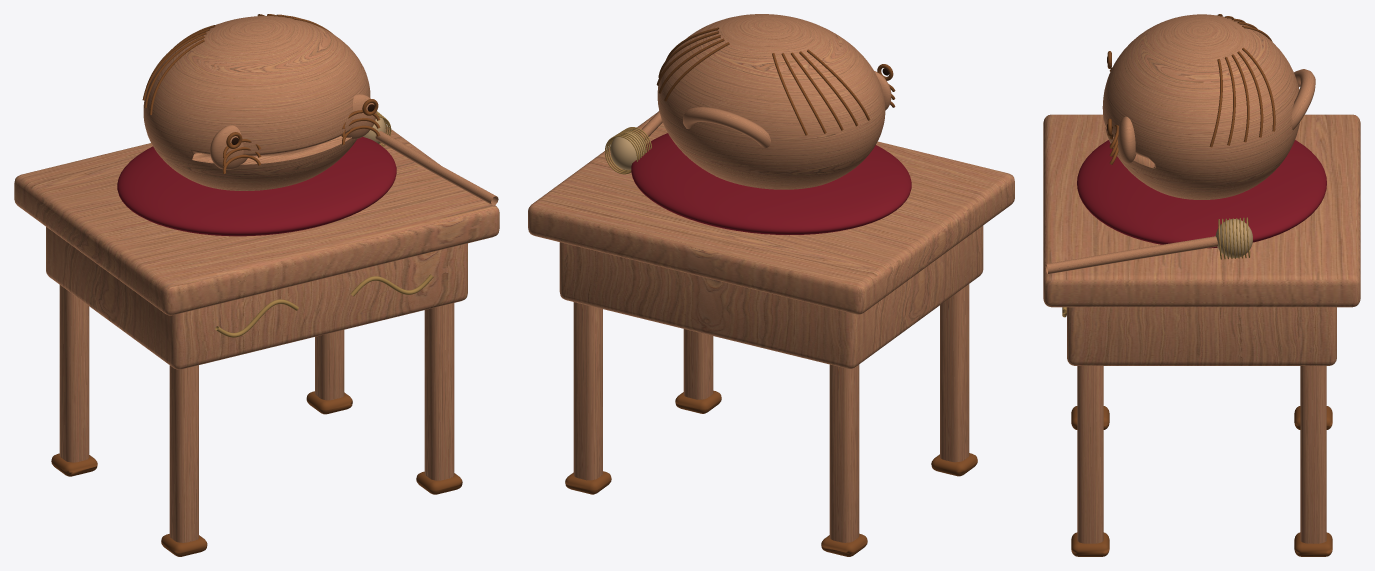
Rendered from wooden-fish.glb.
3 renders of one model, left to right at view 1: azimuth 30°, elevation 25°; view 2: azimuth 150°, elevation 25°; view 3: azimuth 270°, elevation 25°, orthographic.
Parts seen in each view (by area): view 1: Muyu_stand_satin rosewood.001, Muyu_body_satin rosewood.001, Muyu_stand_wine silk cushion.001, Muyu_stand_warm carved endgrain.001, Muyu_body_warm carved endgrain.001, Muyu_mallet_satin rosewood.001, Muyu_stand_muted gold braid.001; view 2: Muyu_stand_satin rosewood.001, Muyu_body_satin rosewood.001, Muyu_stand_wine silk cushion.001, Muyu_body_warm carved endgrain.001, Muyu_stand_warm carved endgrain.001, Muyu_mallet_muted gold braid.001, Muyu_mallet_wound mallet head.001; view 3: Muyu_stand_satin rosewood.001, Muyu_body_satin rosewood.001, Muyu_stand_wine silk cushion.001, Muyu_body_warm carved endgrain.001, Muyu_mallet_satin rosewood.001, Muyu_stand_warm carved endgrain.001, Muyu_mallet_wound mallet head.001, Muyu_mallet_muted gold braid.001.
Boxes of the visible parts, left/top/right/bottom form: Muyu_stand_satin rosewood.001: left=14, top=125, right=499, bottom=542; Muyu_body_satin rosewood.001: left=143, top=16, right=376, bottom=190; Muyu_stand_wine silk cushion.001: left=117, top=137, right=396, bottom=236; Muyu_stand_warm carved endgrain.001: left=51, top=391, right=462, bottom=556; Muyu_body_warm carved endgrain.001: left=142, top=14, right=380, bottom=173; Muyu_mallet_satin rosewood.001: left=375, top=131, right=498, bottom=205; Muyu_stand_muted gold braid.001: left=215, top=274, right=433, bottom=337; Muyu_stand_satin rosewood.001: left=528, top=112, right=1014, bottom=542; Muyu_body_satin rosewood.001: left=657, top=14, right=891, bottom=189; Muyu_stand_wine silk cushion.001: left=631, top=133, right=911, bottom=235; Muyu_body_warm carved endgrain.001: left=656, top=27, right=895, bottom=135; Muyu_stand_warm carved endgrain.001: left=565, top=390, right=977, bottom=556; Muyu_mallet_muted gold braid.001: left=605, top=127, right=651, bottom=174; Muyu_mallet_wound mallet head.001: left=610, top=131, right=646, bottom=170; Muyu_stand_satin rosewood.001: left=1043, top=114, right=1360, bottom=543; Muyu_body_satin rosewood.001: left=1102, top=14, right=1315, bottom=199; Muyu_stand_wine silk cushion.001: left=1077, top=140, right=1326, bottom=248; Muyu_body_warm carved endgrain.001: left=1107, top=14, right=1275, bottom=164; Muyu_mallet_satin rosewood.001: left=1045, top=236, right=1217, bottom=274; Muyu_stand_warm carved endgrain.001: left=1071, top=406, right=1332, bottom=556; Muyu_mallet_wound mallet head.001: left=1215, top=219, right=1252, bottom=258; Muyu_mallet_muted gold braid.001: left=1218, top=217, right=1250, bottom=259.
Bounding box in the file's own units: 0.67 × 0.865 × 0.54.
Materials: 6 (1 with a texture image).
